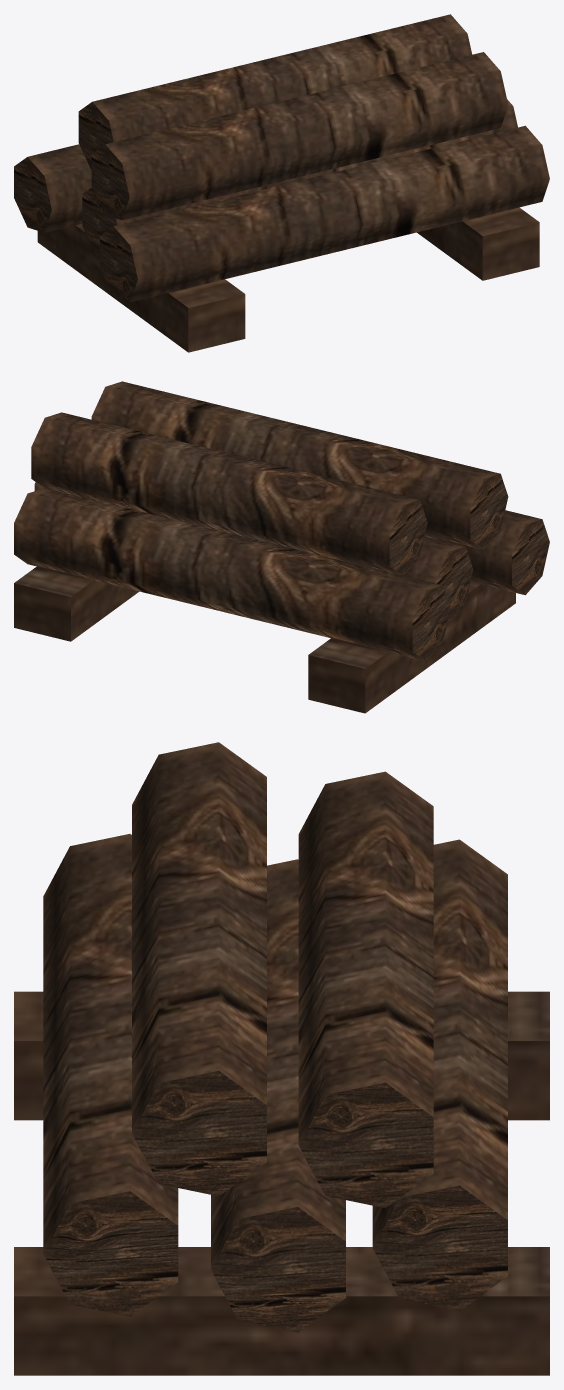
Rendered from periodTimber.glb.
3 views of the same model, one above another, from view 1: azimuth 30°, elevation 25°; view 2: azimuth 150°, elevation 25°; view 3: azimuth 270°, elevation 25° (orthographic). The views are drawn at different scales.
Visible parts, largest first — view 1: part_0; view 2: part_0; view 3: part_0.
Boxes of the visible parts, bbox=[...] form: part_0: bbox=[14, 14, 549, 352]; part_0: bbox=[14, 381, 549, 713]; part_0: bbox=[14, 742, 549, 1375].
Bounding box in the file's own units: 0.906 × 0.3472 × 0.55.
Materials: 1 (1 with a texture image).
